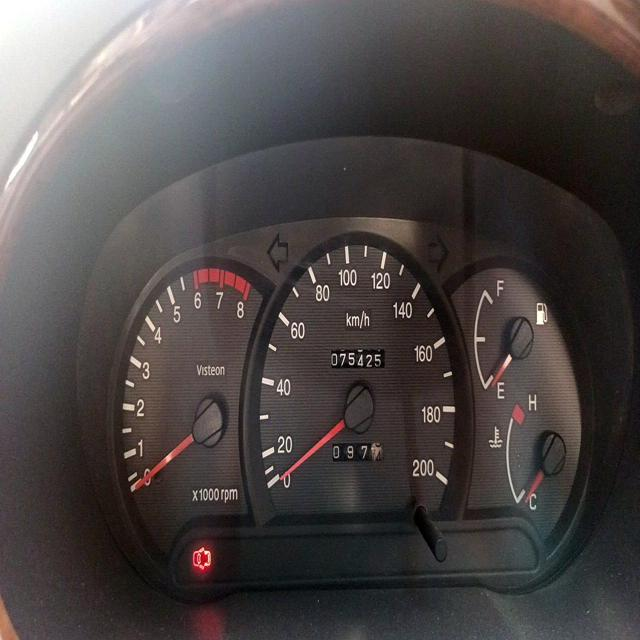odometer: (327, 344, 386, 373)
